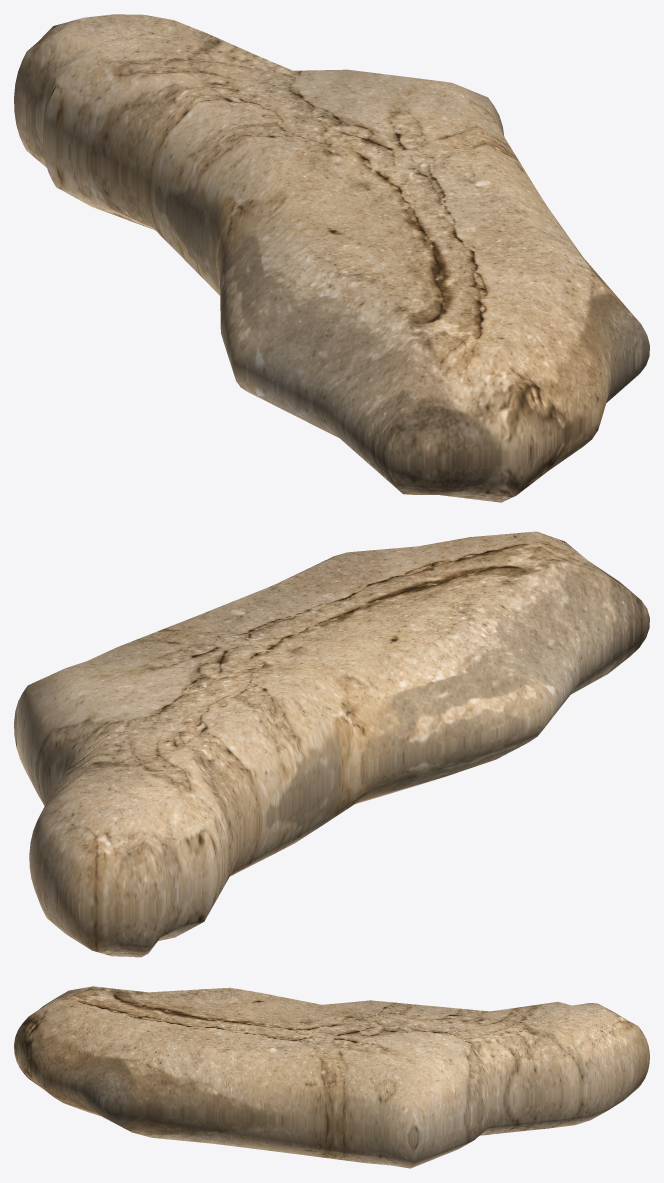
File: Petrified_plant.glb
The picture shows the model from 3 angles, top to bottom: view 1: azimuth 30°, elevation 25°; view 2: azimuth 150°, elevation 25°; view 3: azimuth 270°, elevation 25°; orthographic projection. The views are drawn at different scales.
Visible parts, largest first — view 1: Petrified_plant; view 2: Petrified_plant; view 3: Petrified_plant.
Part boxes in pixels (bbox=[...]): Petrified_plant: bbox=[14, 14, 649, 502]; Petrified_plant: bbox=[14, 531, 649, 957]; Petrified_plant: bbox=[14, 986, 649, 1168].
Size of the model in its own units: 0.7131 by 0.278 by 1.48.
Materials: 1 (1 with a texture image).
